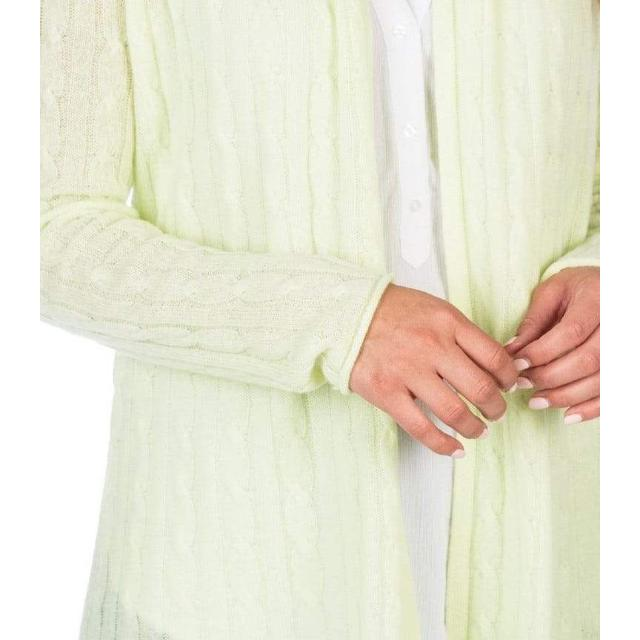linen: (40, 0, 600, 640)
